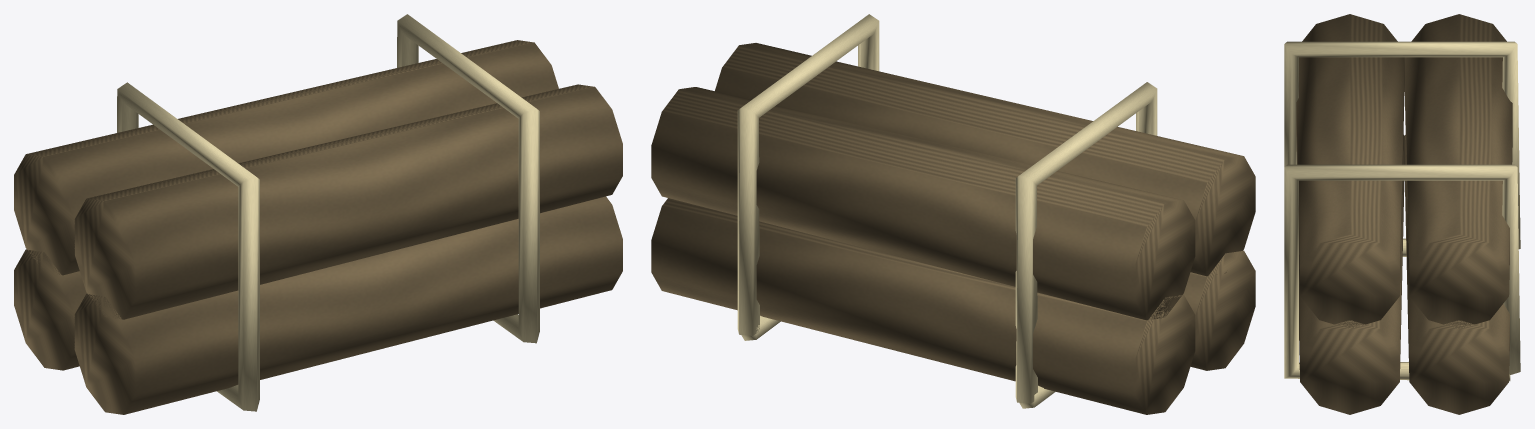
Rendered from wood_cargo.glb.
3 views of the same model, side by side, from view 1: azimuth 30°, elevation 25°; view 2: azimuth 150°, elevation 25°; view 3: azimuth 270°, elevation 25° (orthographic). The views are drawn at different scales.
Parts seen in each view (by area): view 1: Surface; view 2: Surface; view 3: Surface.
Boxes of the visible parts, x1=… form: Surface: x1=14, y1=14, x2=622, y2=414; Surface: x1=651, y1=14, x2=1255, y2=414; Surface: x1=1284, y1=14, x2=1520, y2=414.
Bounding box in the file's own units: 0.7 × 0.3244 × 0.3244.
1 material, 1 textured.
